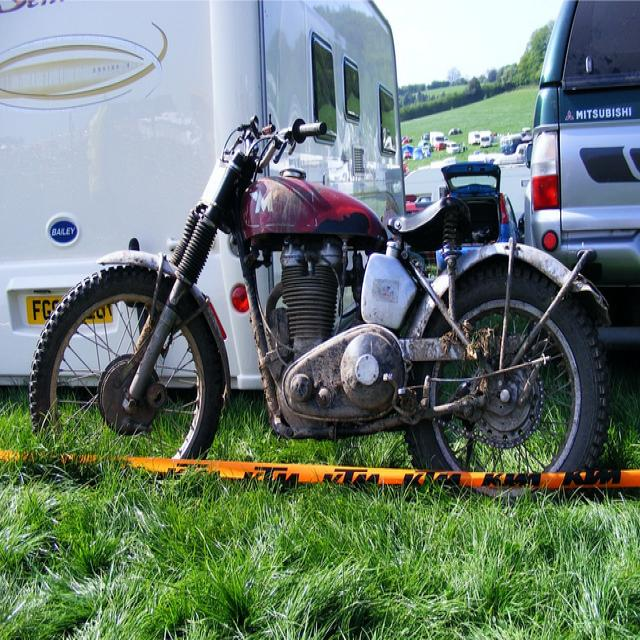motor: (23, 118, 611, 479)
